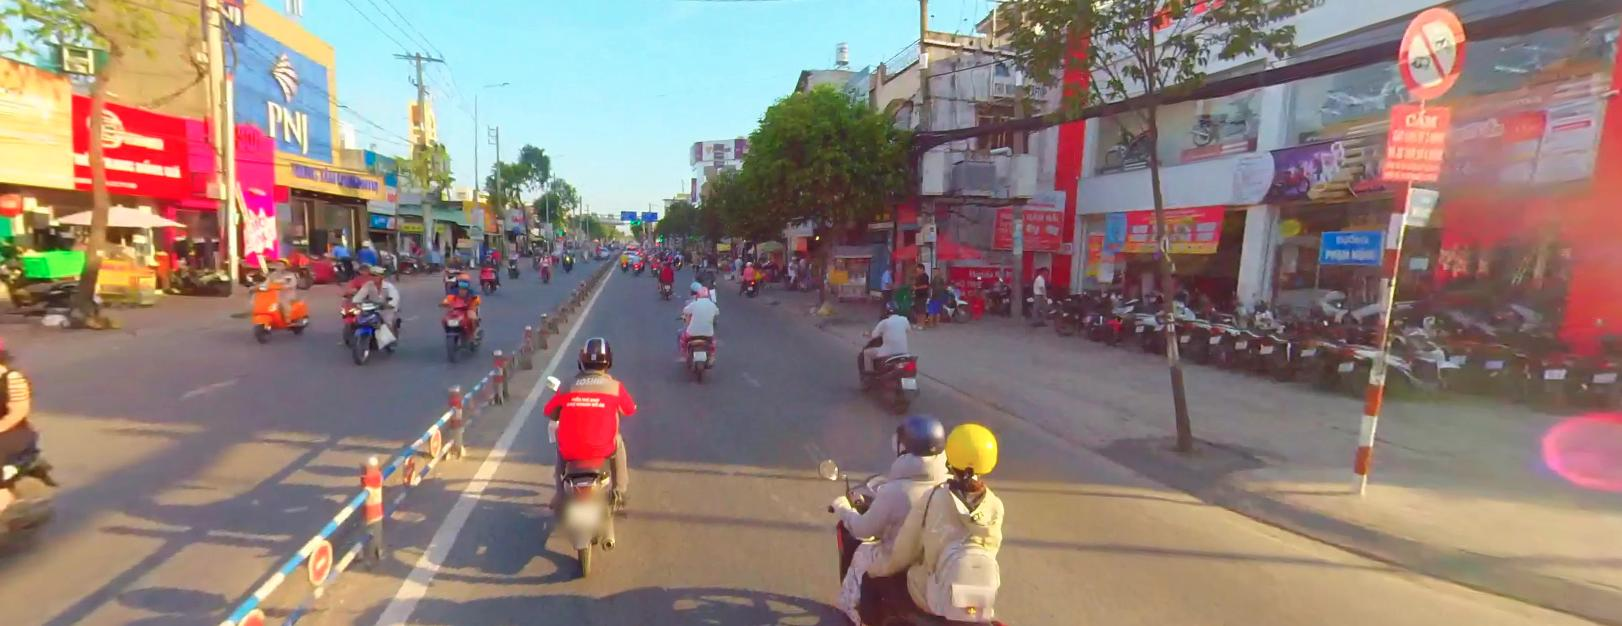Cam con lai: (1396, 7, 1468, 99)
